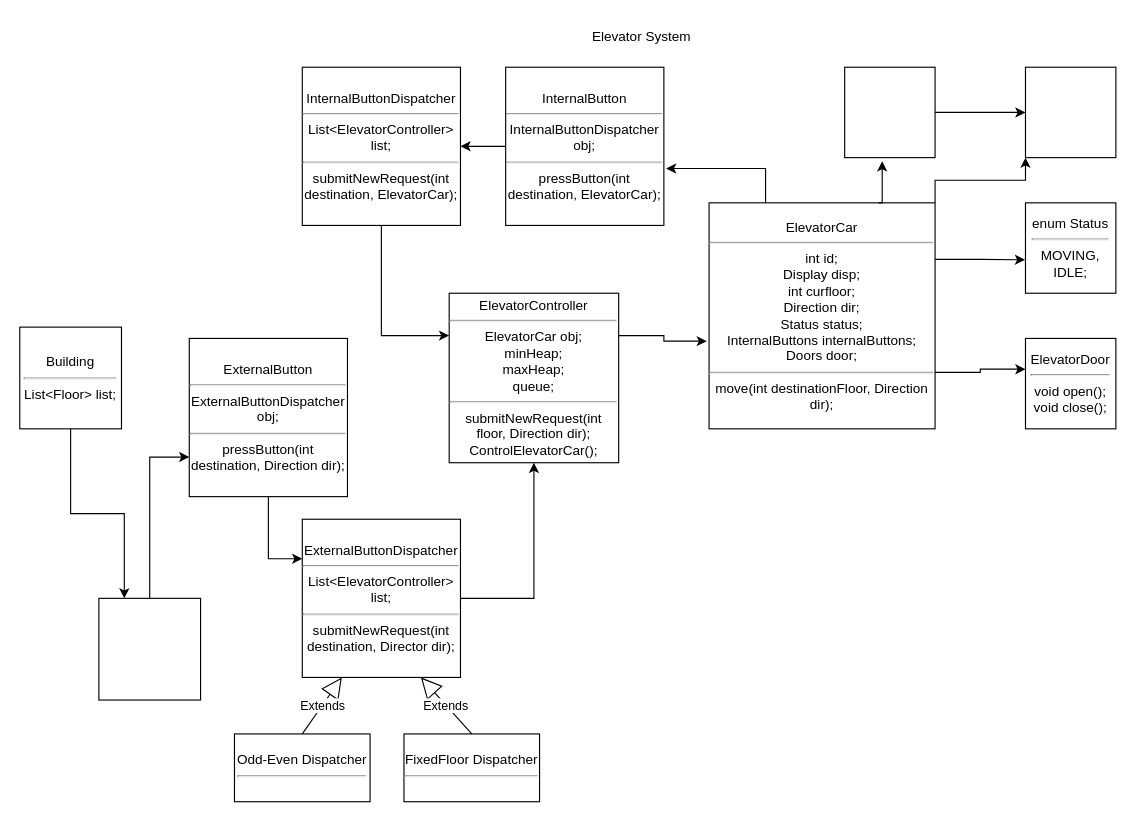
Image size: 1136x822. Some labels were removed from this diagram. The box of each missing label's shape, as (x1, y1, x2, y2) in pixels:
Display int floor; Direction dir;: (844, 66, 935, 158)
enum Direction UP, DOWN;: (1024, 66, 1116, 158)
Floor int floorId; ExternalButton obj;: (98, 597, 201, 700)
